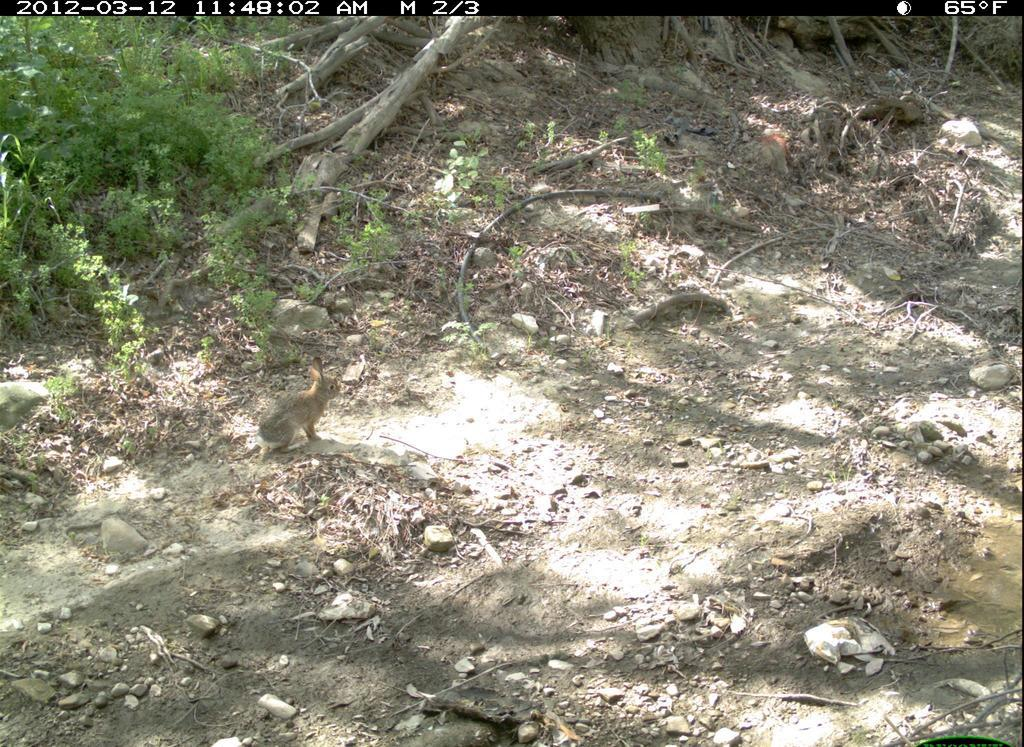rabbit: (245, 356, 359, 460)
